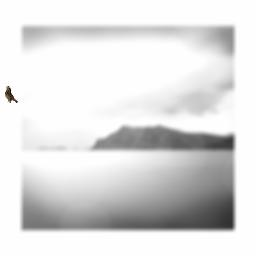Sparrow: (5, 86, 18, 103)
